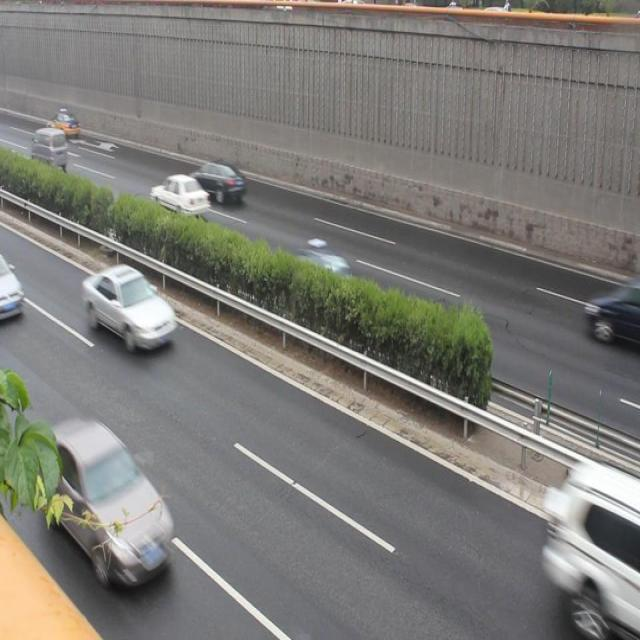car: (33, 418, 175, 578), (84, 262, 174, 346), (261, 245, 357, 319), (150, 174, 210, 218), (185, 160, 246, 203), (1, 259, 28, 321)
truck: (584, 276, 640, 344)
